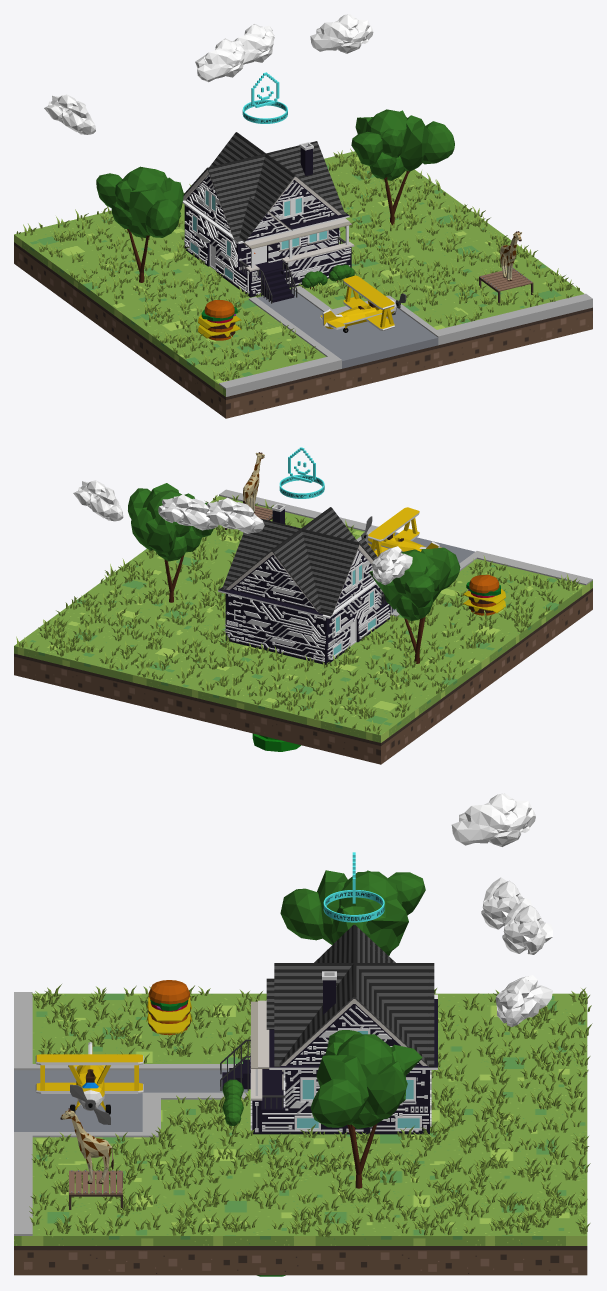
3 renders of one model, top to bottom at view 1: azimuth 30°, elevation 25°; view 2: azimuth 150°, elevation 25°; view 3: azimuth 270°, elevation 25°, orthographic. The views are drawn at different scales.
Parts seen in each view (by area): view 1: Cube.006, Cube.918, Circle.012_Grass_0.192, Cube.007, tree, tree.001, VEHICLES_AIRPLANE, OBJRANDOM_HAMBURGER, TYPE_PREMIUM, Cube.009, ANIMAL_JIRAFA; view 2: Cube.006, Cube.918, Circle.012_Grass_0.192, Cube.007, tree.001, tree, VEHICLES_AIRPLANE, OBJRANDOM_HAMBURGER, TYPE_PREMIUM, ANIMAL_JIRAFA, UNDERGROUND_PIPES; view 3: Cube.006, Circle.012_Grass_0.192, Cube.918, tree, Cube.007, tree.001, VEHICLES_AIRPLANE, OBJRANDOM_HAMBURGER, Cube.009, ANIMAL_JIRAFA, TYPE_PREMIUM.
Part boxes in pixels (x1,y1,x2,y2): Cube.006: [14, 151, 592, 418]; Cube.918: [182, 132, 354, 303]; Circle.012_Grass_0.192: [16, 148, 579, 381]; Cube.007: [44, 14, 373, 134]; tree: [351, 109, 454, 225]; tree.001: [96, 166, 183, 282]; VEHICLES_AIRPLANE: [320, 275, 406, 332]; OBJRANDOM_HAMBURGER: [198, 300, 241, 340]; TYPE_PREMIUM: [242, 72, 287, 123]; Cube.009: [479, 268, 533, 302]; ANIMAL_JIRAFA: [500, 231, 521, 281]; Cube.006: [14, 489, 592, 764]; Cube.918: [218, 503, 392, 664]; Circle.012_Grass_0.192: [16, 495, 579, 734]; Cube.007: [73, 480, 412, 585]; tree.001: [369, 547, 460, 663]; tree: [128, 483, 213, 602]; VEHICLES_AIRPLANE: [361, 507, 441, 556]; OBJRANDOM_HAMBURGER: [462, 574, 505, 615]; TYPE_PREMIUM: [279, 447, 324, 498]; ANIMAL_JIRAFA: [243, 452, 264, 512]; UNDERGROUND_PIPES: [252, 733, 300, 751]; Cube.006: [14, 992, 587, 1275]; Circle.012_Grass_0.192: [29, 984, 592, 1237]; Cube.918: [220, 924, 437, 1134]; tree: [310, 1030, 422, 1188]; Cube.007: [451, 793, 552, 1026]; tree.001: [280, 870, 425, 955]; VEHICLES_AIRPLANE: [35, 1042, 143, 1124]; OBJRANDOM_HAMBURGER: [146, 980, 191, 1035]; Cube.009: [69, 1170, 122, 1209]; ANIMAL_JIRAFA: [60, 1108, 113, 1183]; TYPE_PREMIUM: [323, 852, 384, 922].
Bounding box in the file's own units: 4071 × 2884 × 4040.
Materials: 47 (4 with a texture image).
